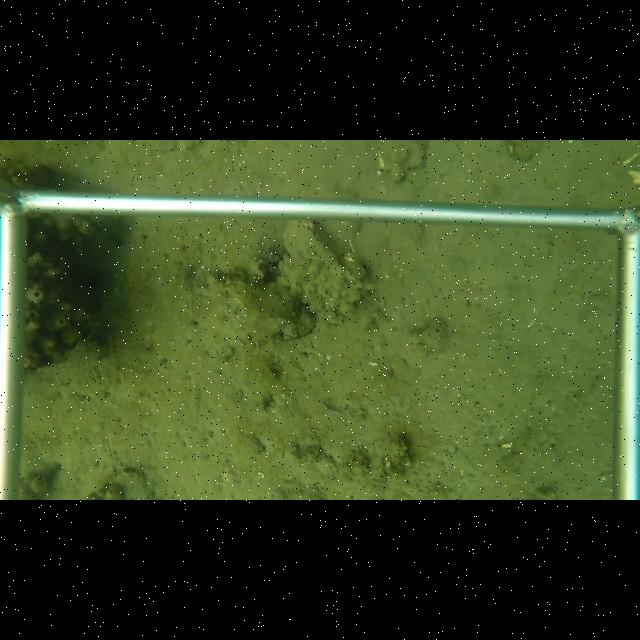Oyster-Closed: (272, 220, 374, 329)
